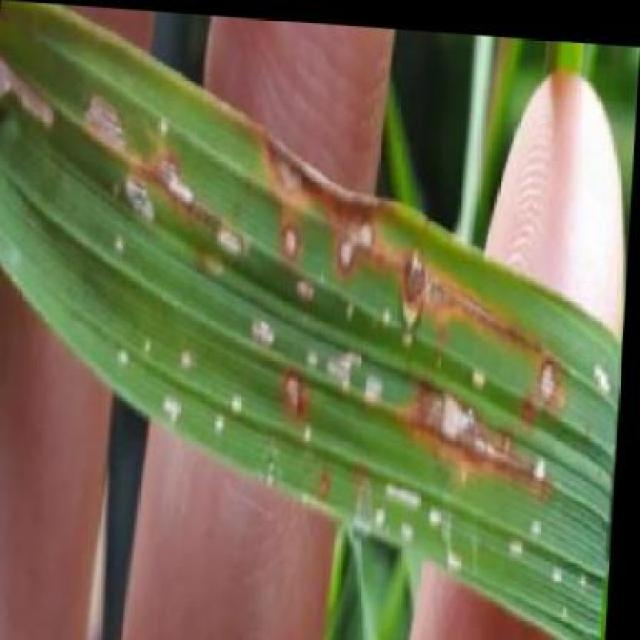Bacterial_Leaf_Blight: (361, 462, 497, 581), (110, 311, 236, 438), (500, 503, 612, 626), (235, 357, 348, 469), (410, 378, 533, 480), (391, 238, 506, 342), (68, 72, 150, 182), (142, 115, 216, 232), (1, 44, 76, 154), (252, 117, 334, 217), (320, 184, 395, 293), (292, 443, 365, 551), (94, 164, 178, 250), (333, 334, 399, 418), (523, 333, 588, 415), (244, 360, 316, 422), (242, 291, 302, 358), (211, 208, 266, 275), (526, 435, 582, 496), (262, 216, 320, 273), (288, 266, 334, 312), (584, 347, 622, 401)
